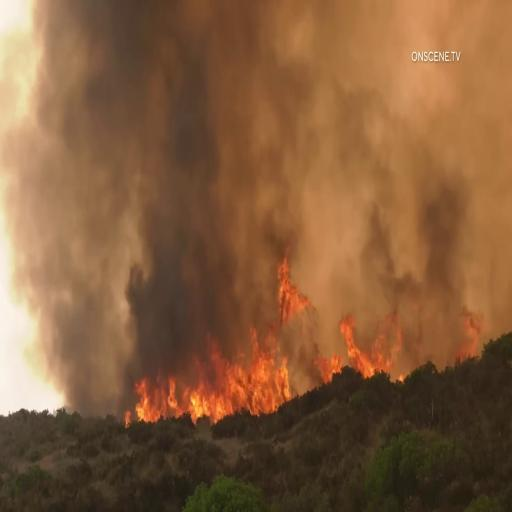fire: (208, 300, 272, 420), (335, 290, 404, 384), (144, 371, 206, 426), (279, 254, 306, 322)
smoke: (108, 92, 179, 365), (430, 200, 471, 306)
